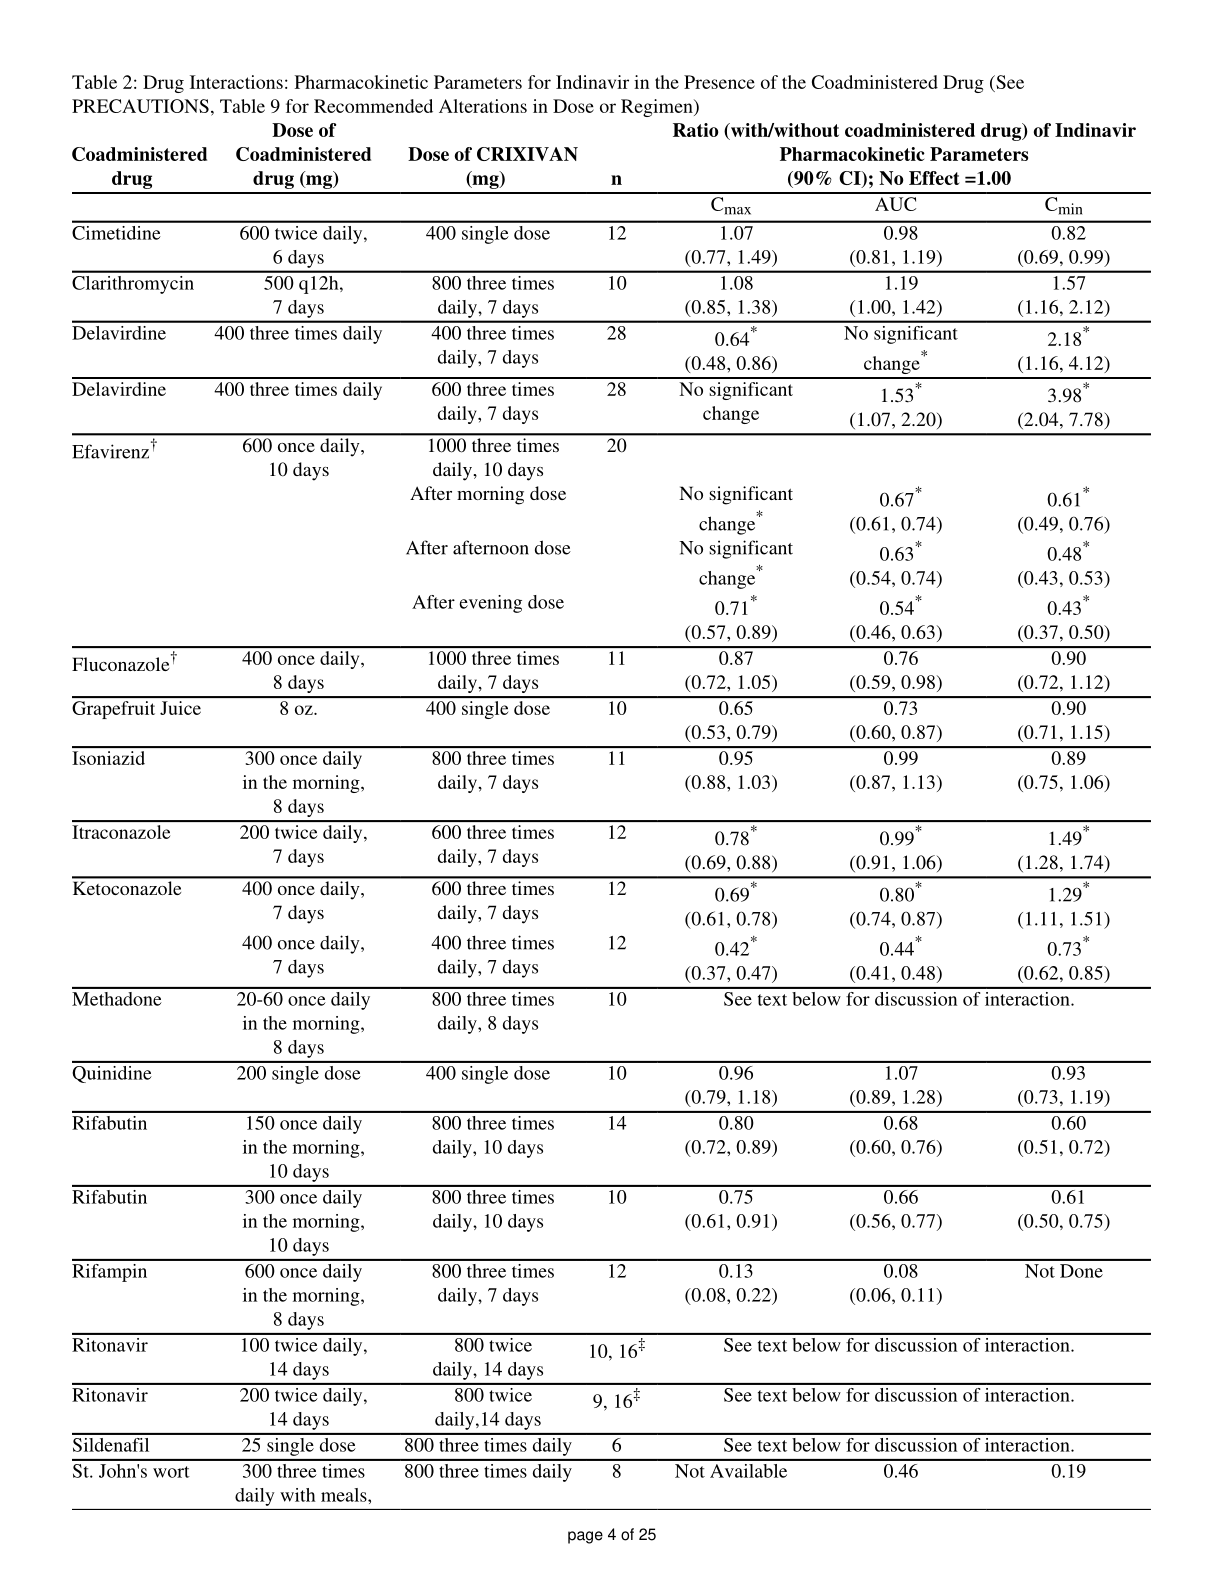partial_lined_merged_cells: (66, 120, 1153, 1515)
